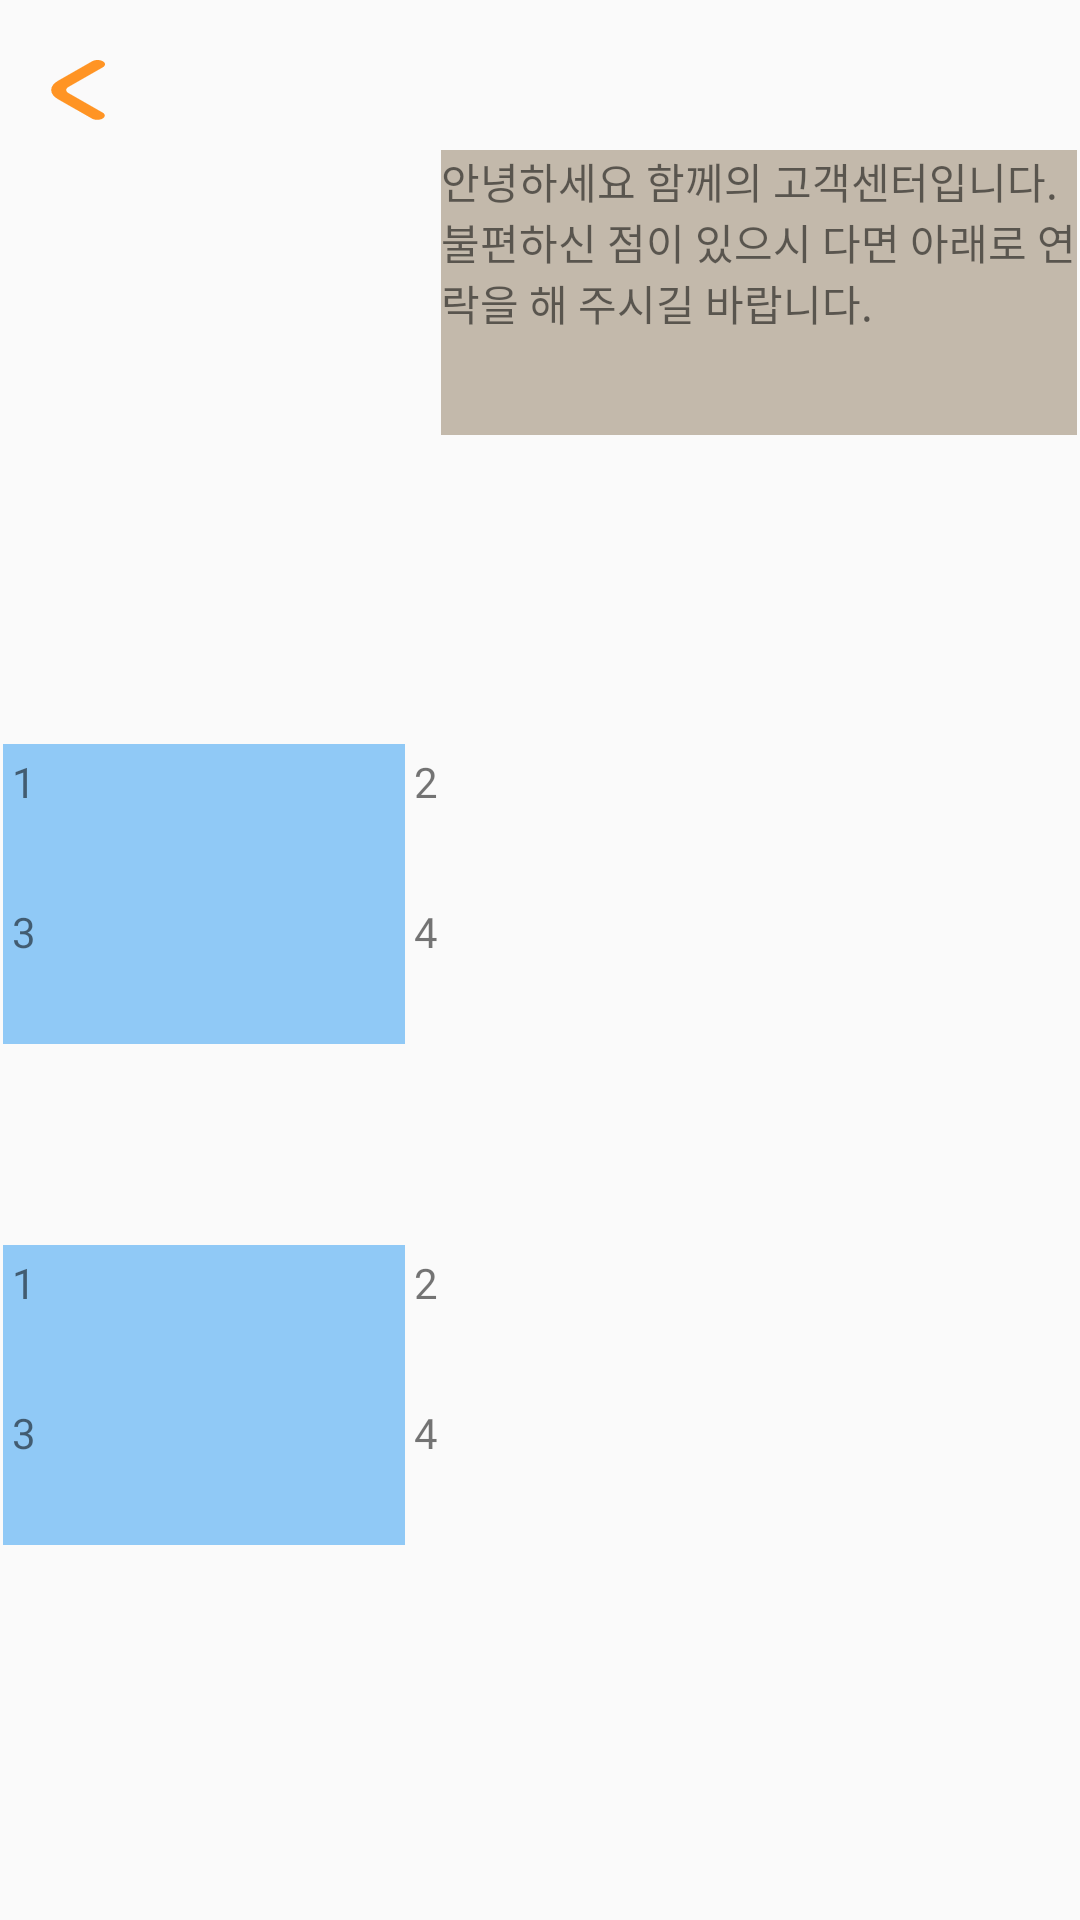

Icons on this 1080 × 1920 Android screen, each with the point to tap as (x,y):
back signiture: (78,90)
